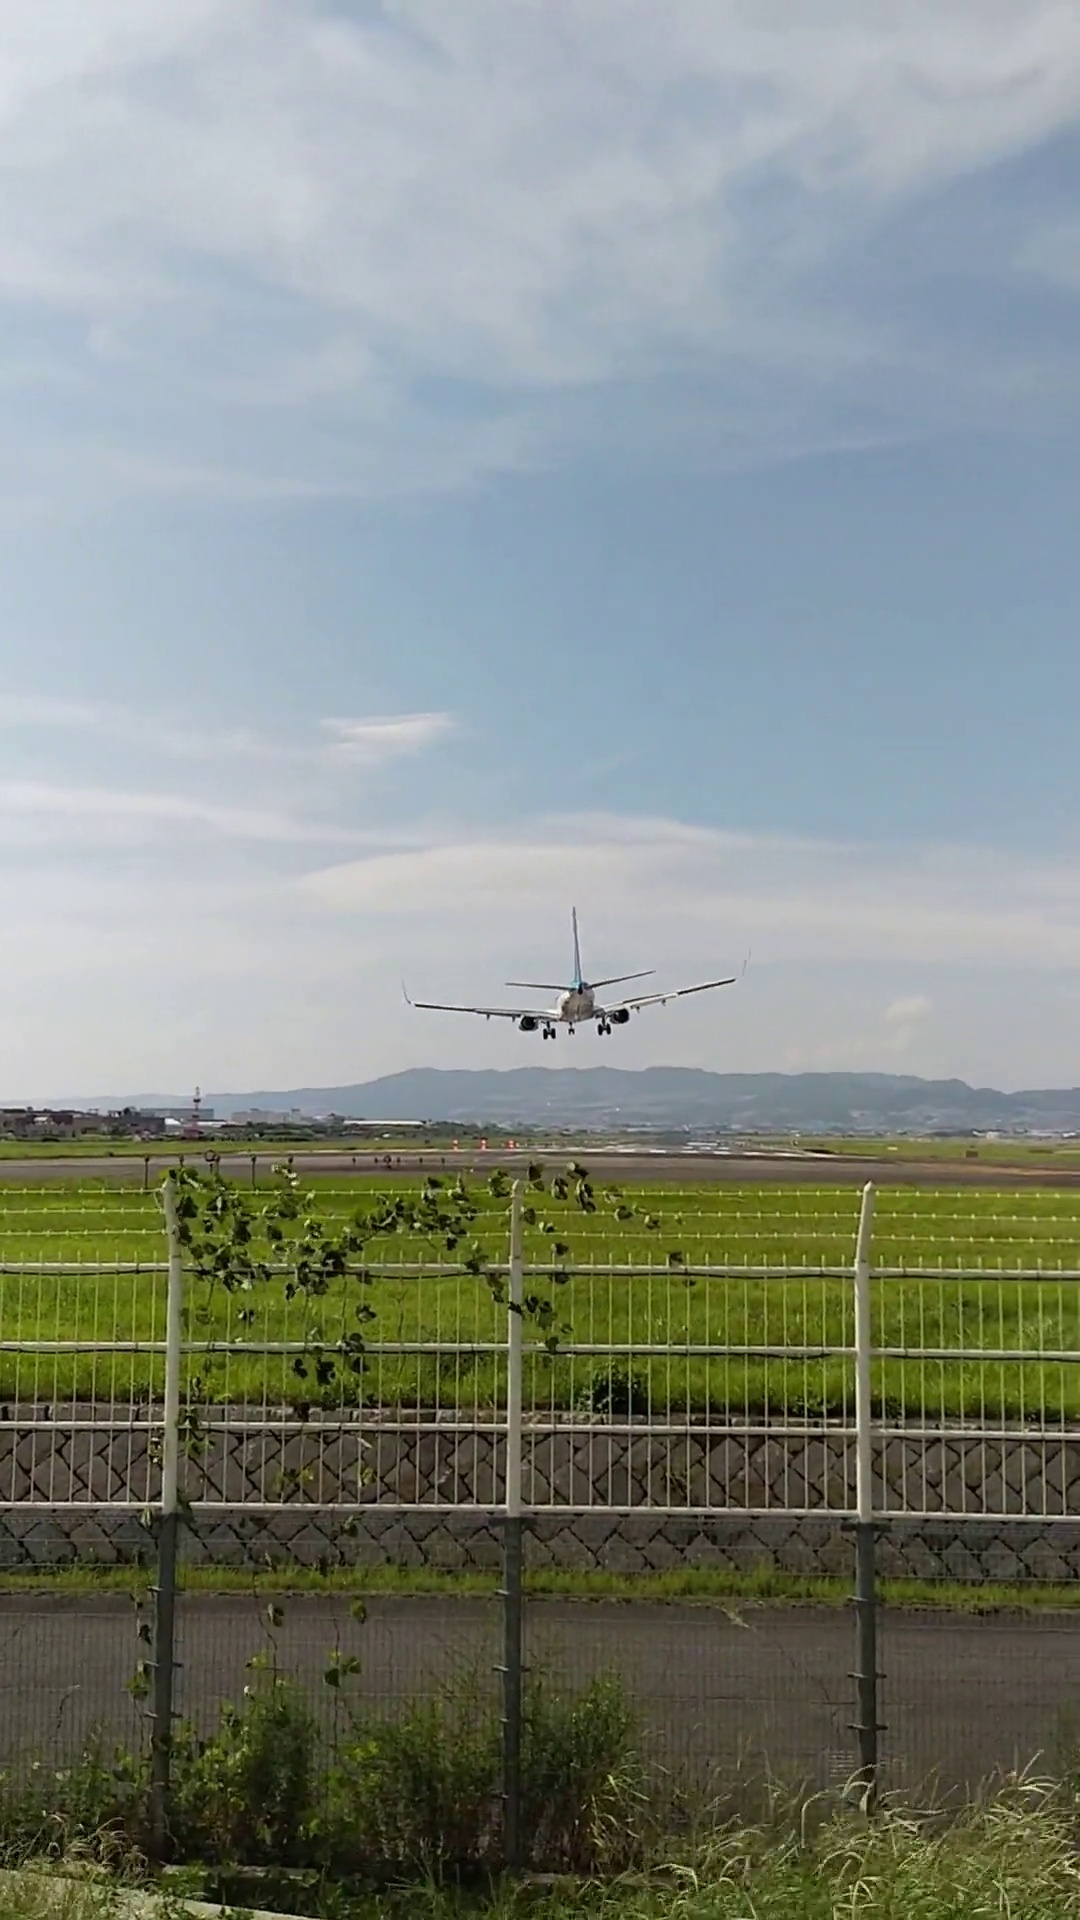plane: (396, 905, 738, 1042)
